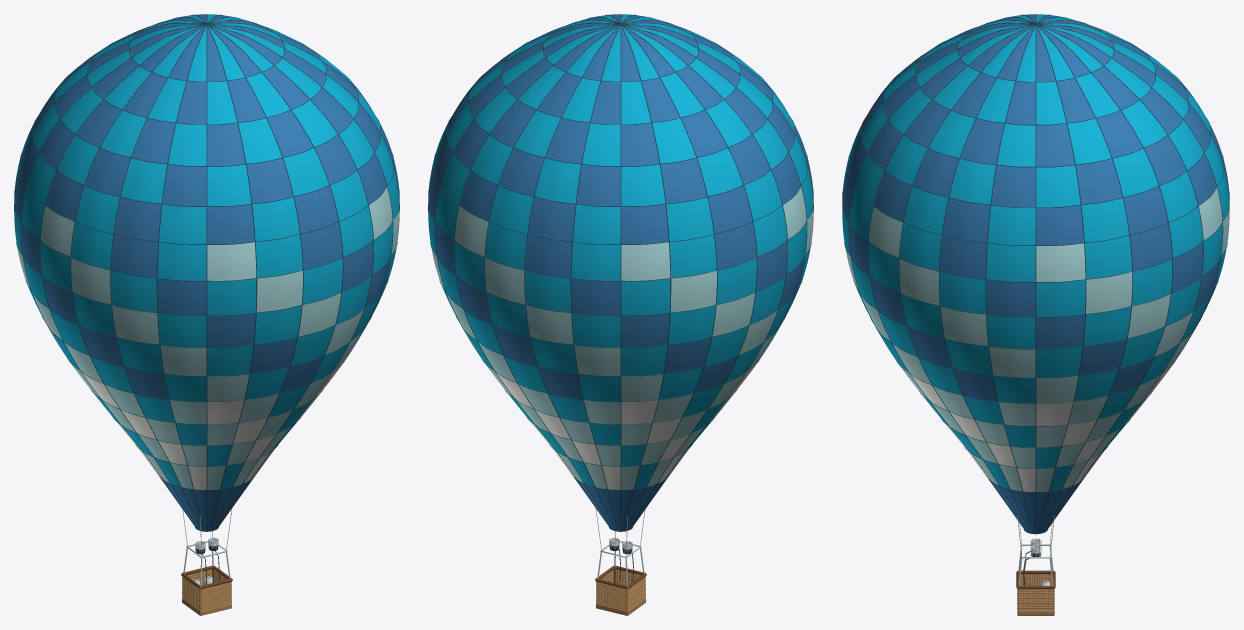
The model's file is MV56b_hot_air_balloon.glb.
3 views of the same model, side by side, from view 1: azimuth 30°, elevation 25°; view 2: azimuth 150°, elevation 25°; view 3: azimuth 270°, elevation 25° (orthographic).
Visible parts, largest first — view 1: MV56b-team-balloon; view 2: MV56b-team-balloon; view 3: MV56b-team-balloon.
Part boxes in pixels (x1,y1,x2,y2): MV56b-team-balloon: [14, 14, 399, 615]; MV56b-team-balloon: [428, 14, 813, 615]; MV56b-team-balloon: [842, 14, 1229, 615].
Bounding box in the file's own units: 11.83 × 19.7 × 11.83.
